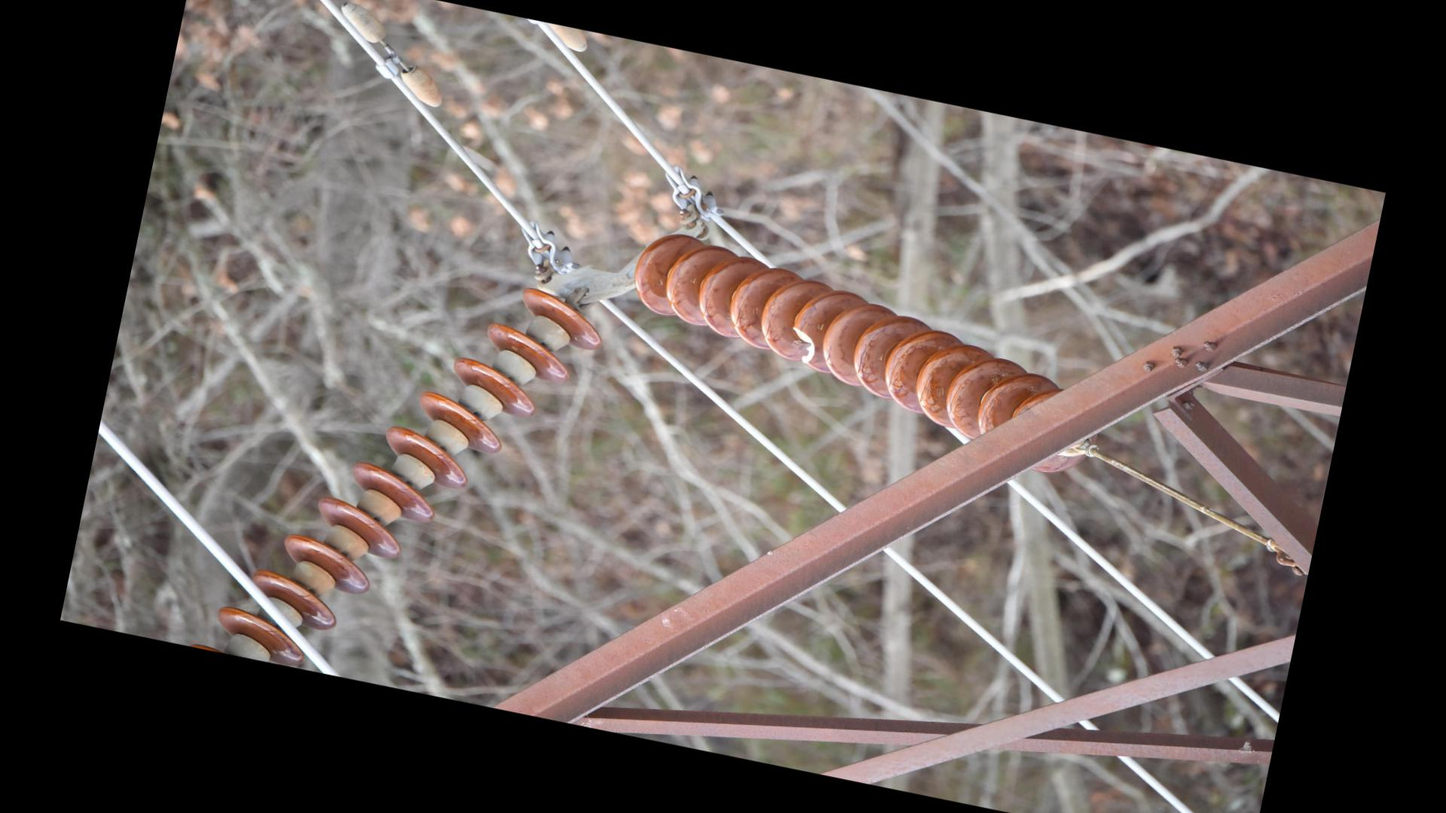damper: (318, 1, 464, 115)
